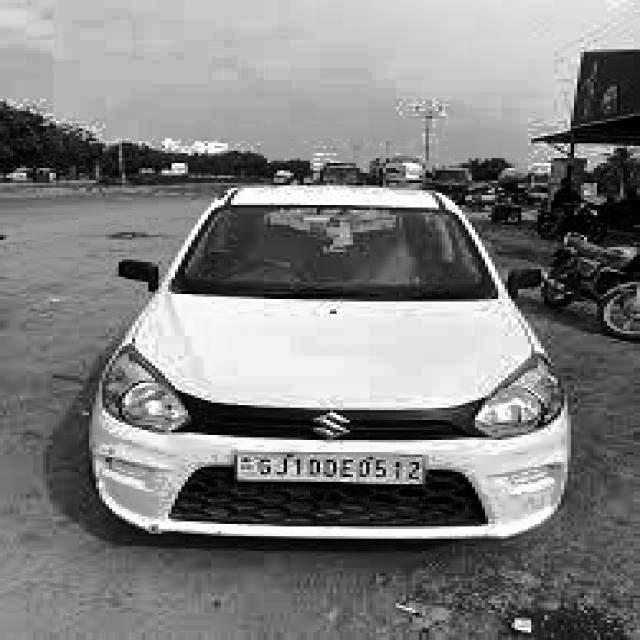Car: (81, 173, 589, 558)
